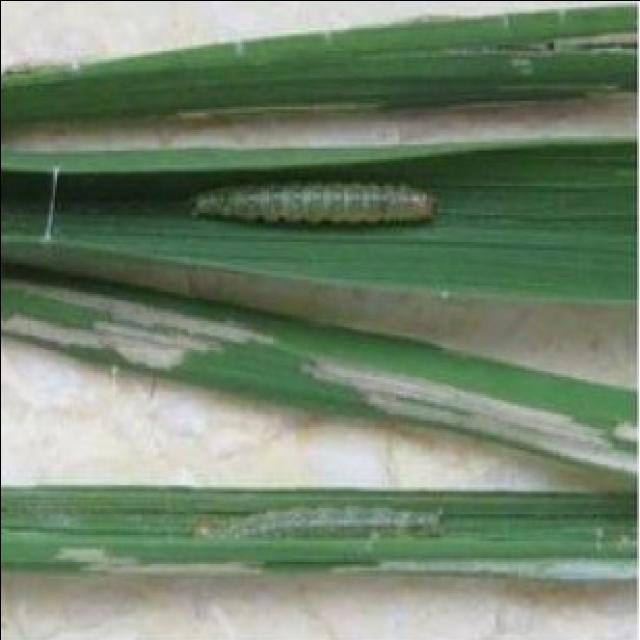rice leaf roller: (301, 353, 632, 470), (193, 503, 630, 576), (0, 283, 274, 370), (193, 181, 434, 222), (60, 546, 264, 569)
